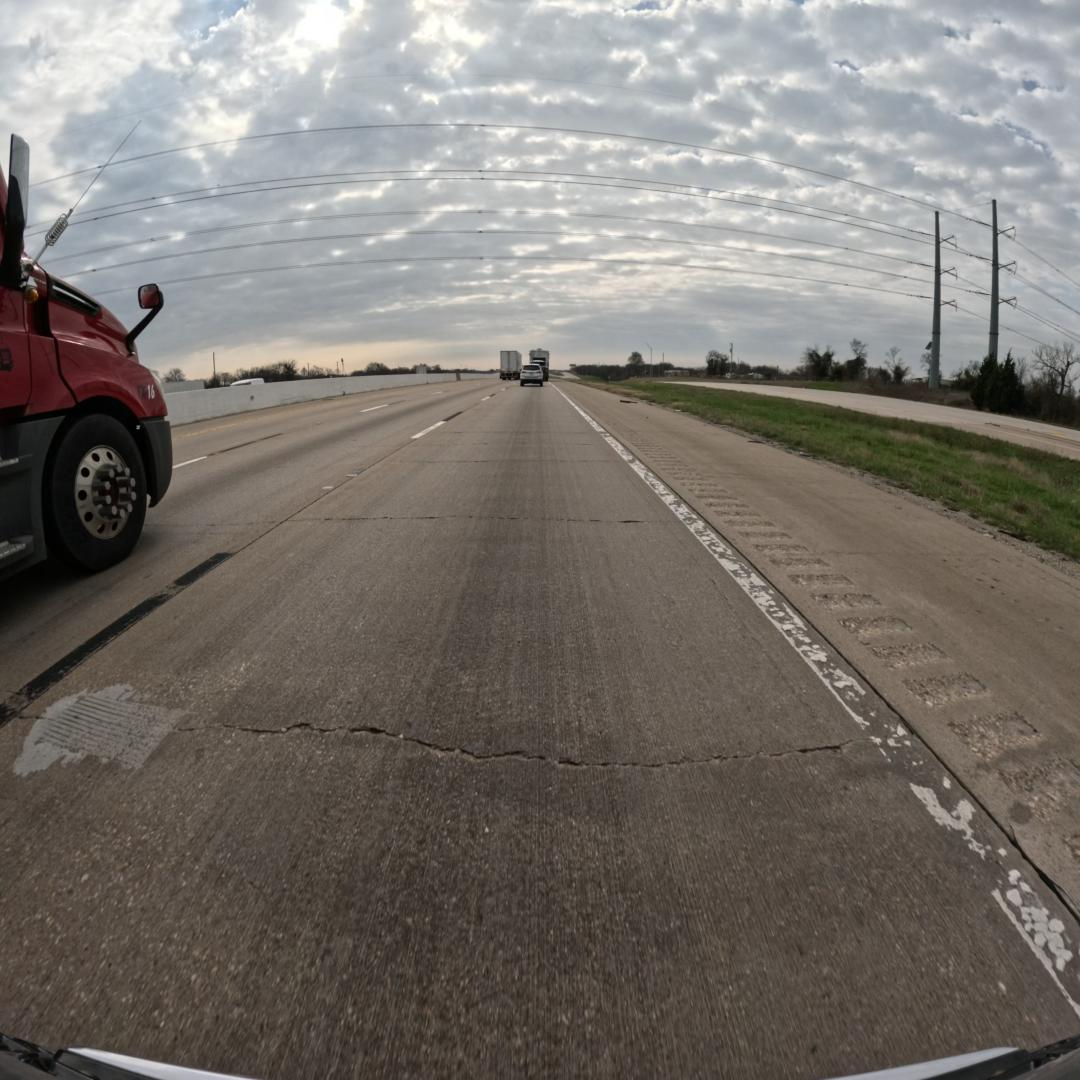lane0: (0, 385, 1080, 1077)
lane1: (0, 385, 501, 725)
